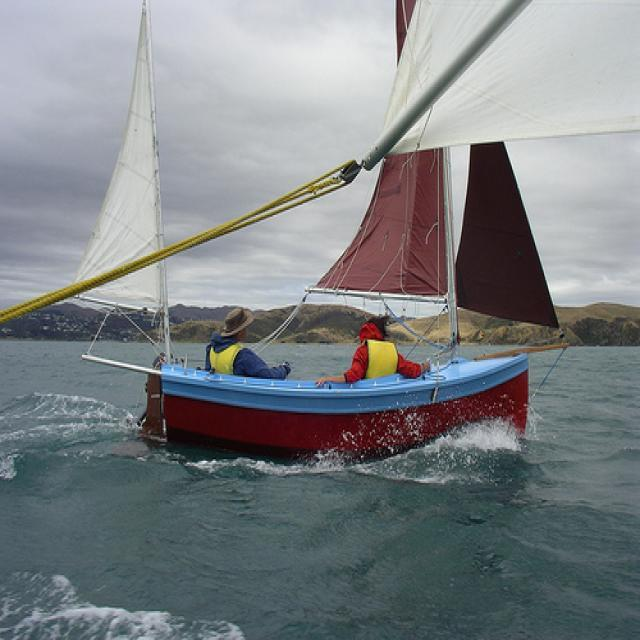Ship: (85, 7, 567, 485)
